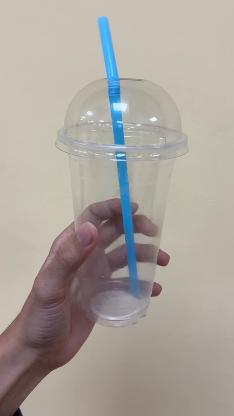Plastic Cup: (53, 75, 185, 327)
